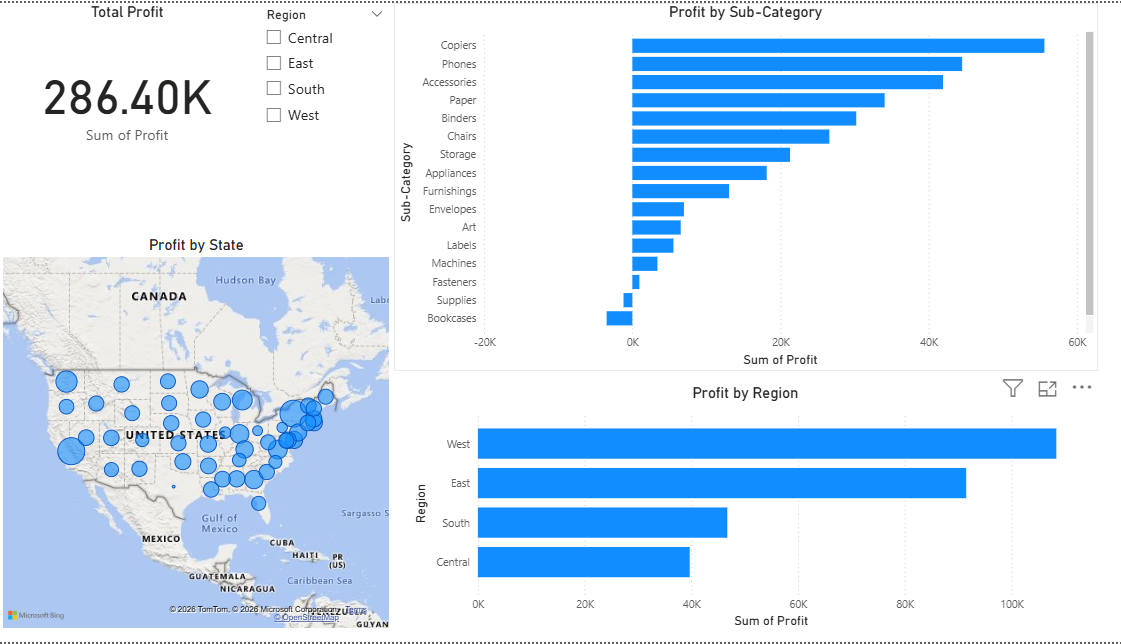

Layout of this report page (visuals, bound fields, positions):
{"tool":"powerbi","page":{"name":"Profit and Loss","canvas":[1280,720],"ordinal":1},"visuals":[{"type":"clusteredBarChart","title":"Profit by Region","fields":{"Category":["Sample - Superstore.Region"],"Y":["Sum(Sample - Superstore.Profit)"]},"box":[462.2,429.7,758.1,279.7],"z":0},{"type":"clusteredBarChart","title":" Profit by Sub-Category","fields":{"Category":["Sample - Superstore.Sub-Category"],"Y":["Sum(Sample - Superstore.Profit)"]},"box":[445.1,0,792.6,414.9],"z":1000},{"type":"map","title":"Profit by State","fields":{"Category":["Sample - Superstore.State"],"Size":["Sum(Sample - Superstore.Profit)"]},"box":[0,262.2,444.6,447.3],"z":2000},{"type":"card","title":"Total Profit","fields":{"Values":["Sum(Sample - Superstore.Profit)"]},"box":[0,0,289.2,201.4],"z":3000},{"type":"slicer","fields":{"Values":["Sample - Superstore.Region"]},"box":[289,0,156,201],"z":3001}]}

Visuals, with their boxes in screenshot pixels (x1, y1, x2, y2), scaled from the page's 1280x720 canvas onto the 1121x644 screenshot:
"Profit by Region" clusteredBarChart: (x1=405, y1=384, x2=1069, y2=635)
" Profit by Sub-Category" clusteredBarChart: (x1=390, y1=0, x2=1084, y2=371)
"Profit by State" map: (x1=0, y1=235, x2=389, y2=635)
"Total Profit" card: (x1=0, y1=0, x2=253, y2=180)
slicer - Sample - Superstore.Region: (x1=253, y1=0, x2=390, y2=180)
